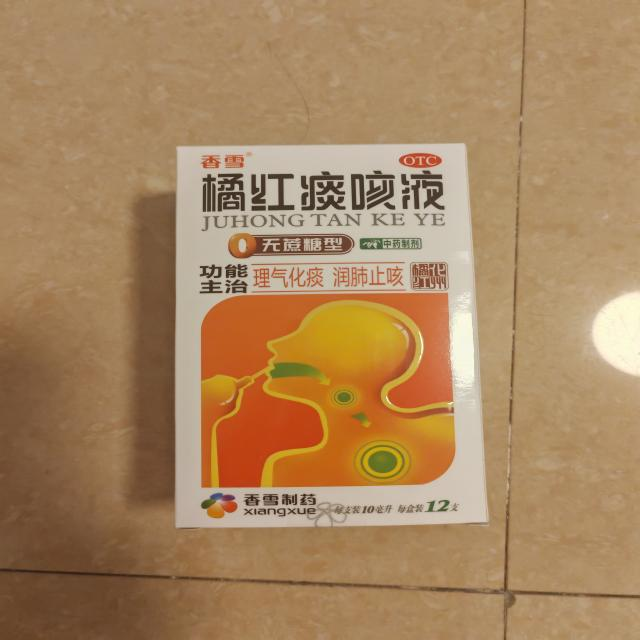box: (161, 138, 499, 535)
